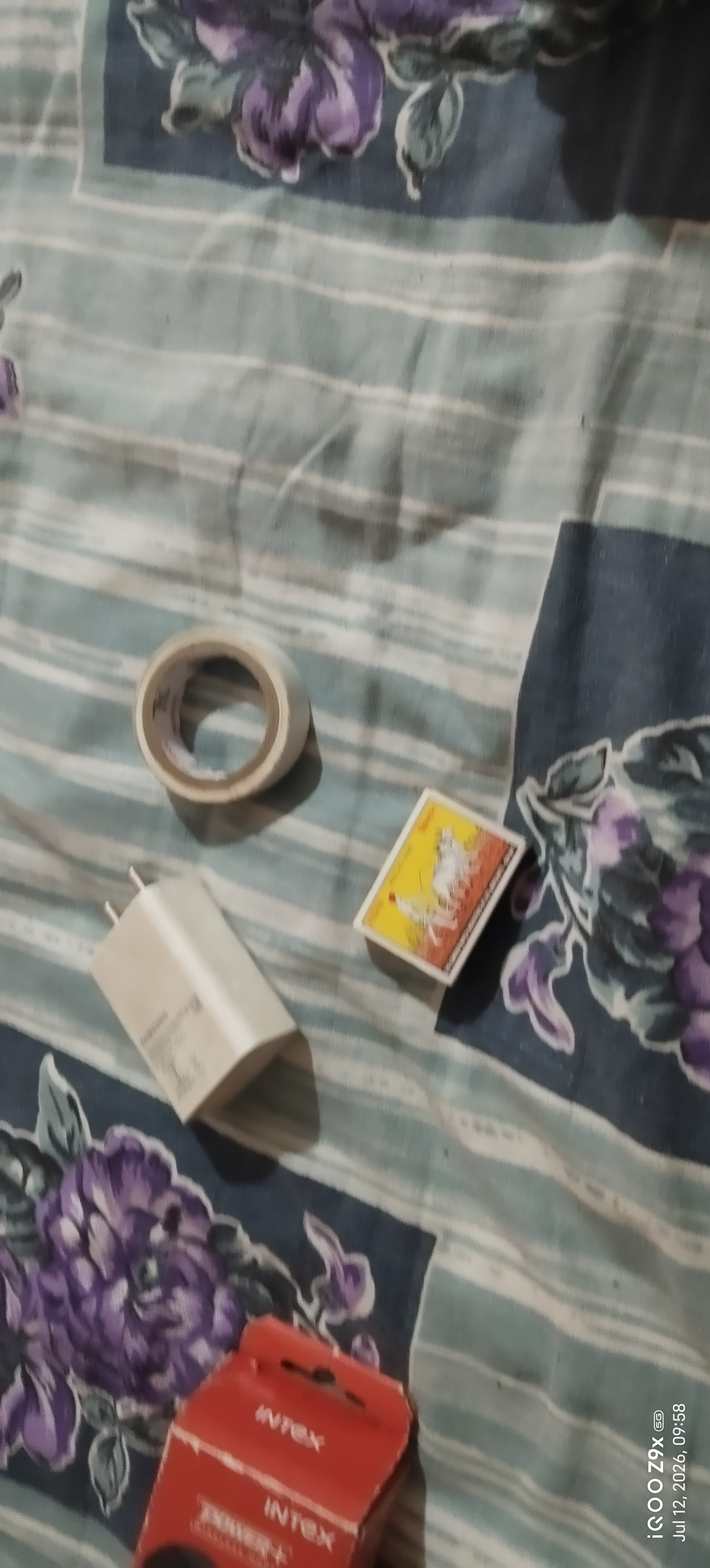charger: (77, 847, 310, 1144)
matchbox: (335, 775, 545, 1005)
tape_roll: (125, 624, 324, 826)
